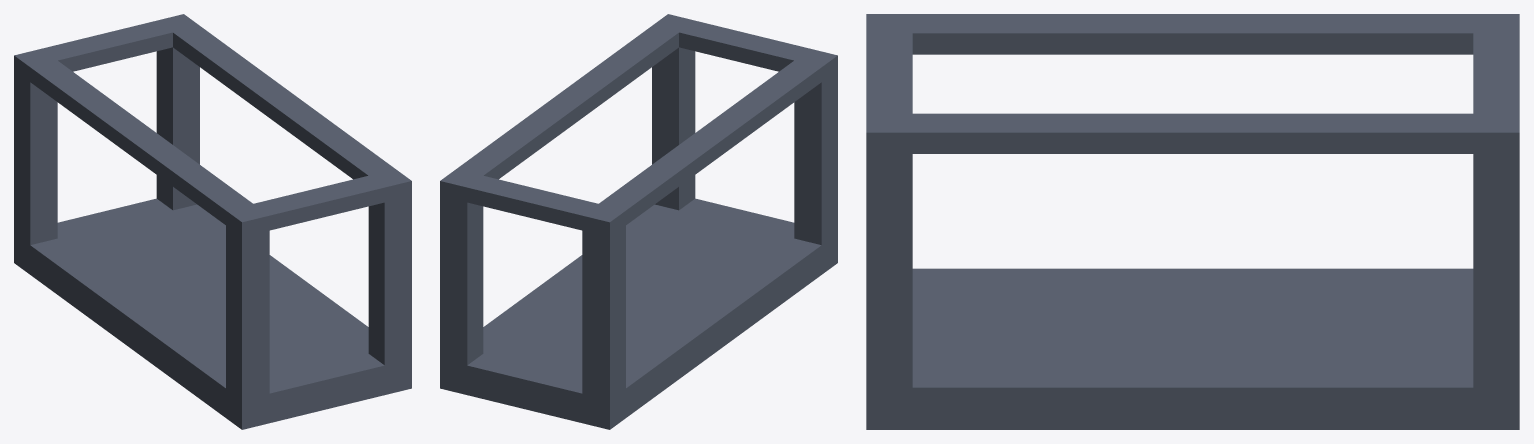
File: hamster cage.fbx
The picture shows the model from 3 angles, left to right: view 1: azimuth 30°, elevation 25°; view 2: azimuth 150°, elevation 25°; view 3: azimuth 270°, elevation 25°; orthographic projection. The views are drawn at different scales.
Visible parts, largest first — view 1: hamster_cage:RoadKillOut; view 2: hamster_cage:RoadKillOut; view 3: hamster_cage:RoadKillOut.
Part boxes in pixels (bbox=[...]): hamster_cage:RoadKillOut: bbox=[14, 14, 411, 429]; hamster_cage:RoadKillOut: bbox=[440, 14, 837, 429]; hamster_cage:RoadKillOut: bbox=[866, 14, 1519, 429].
Bounding box in the file's own units: 12.01 × 14.03 × 27.95.
1 material, 1 textured.
